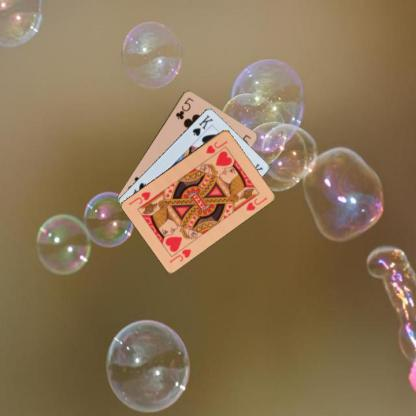5c: (172, 95, 194, 120)
Jh: (167, 240, 192, 264), (203, 137, 229, 155)
Ks: (190, 112, 214, 137)
